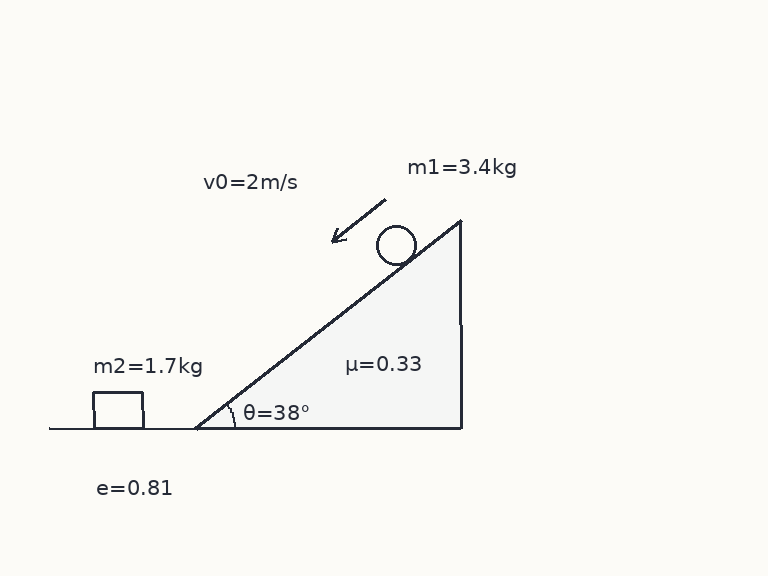ball: (374, 223, 418, 267)
block: (92, 390, 144, 430)
ramp: (193, 219, 463, 430)
